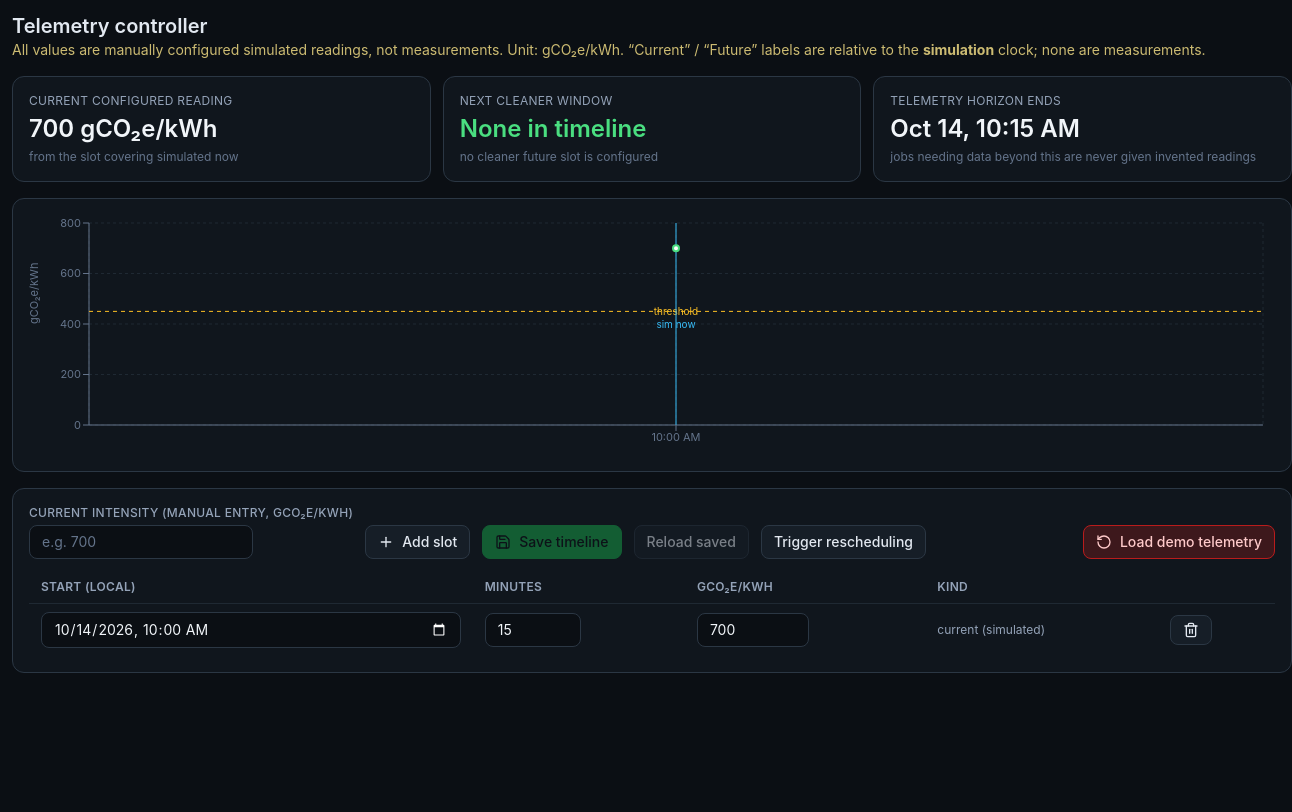
Test case: Telemetry page › shows backend validation details (overlap) when saving fails
Step 1. Clear the field named "Slot 1 intensity" → [753, 630], box [697,613,809,647]
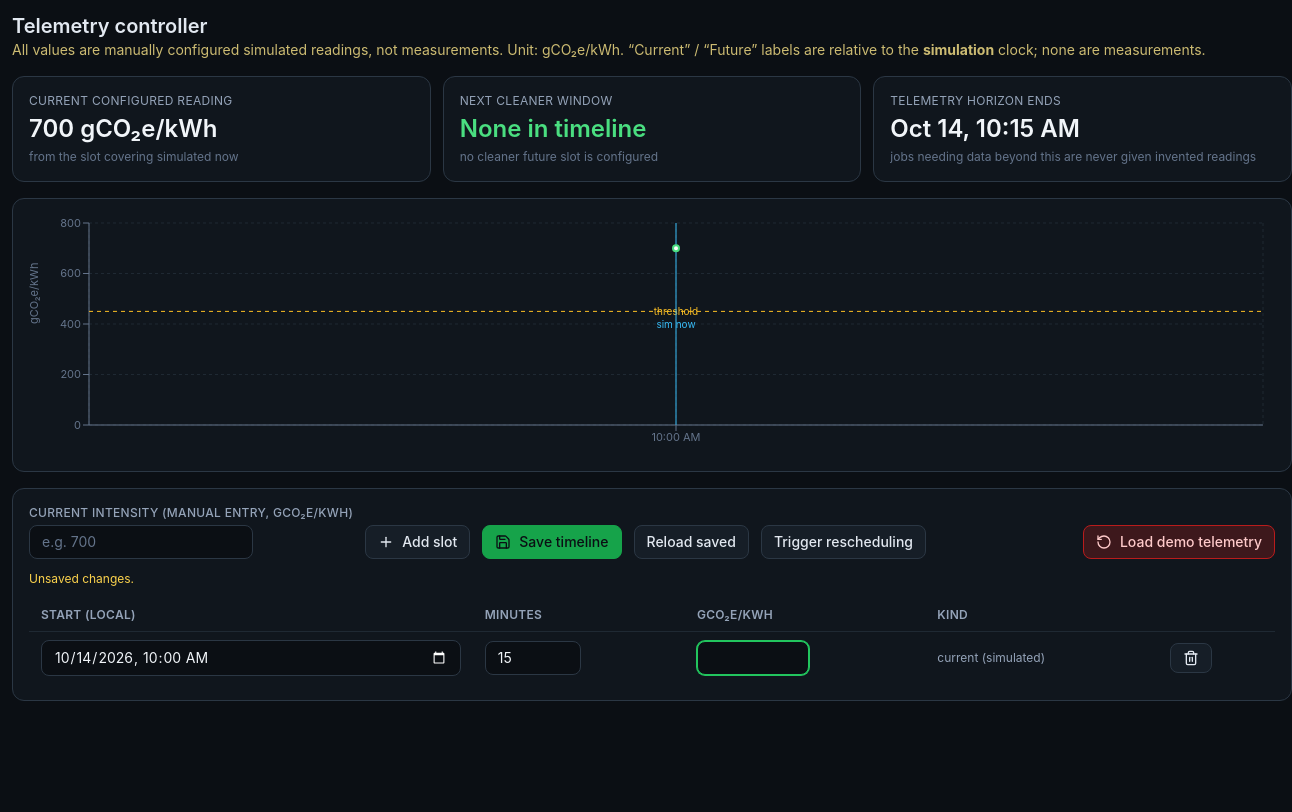
Step 2. Type "300" into the field named "Slot 1 intensity" → [753, 658], box [697,641,809,675]
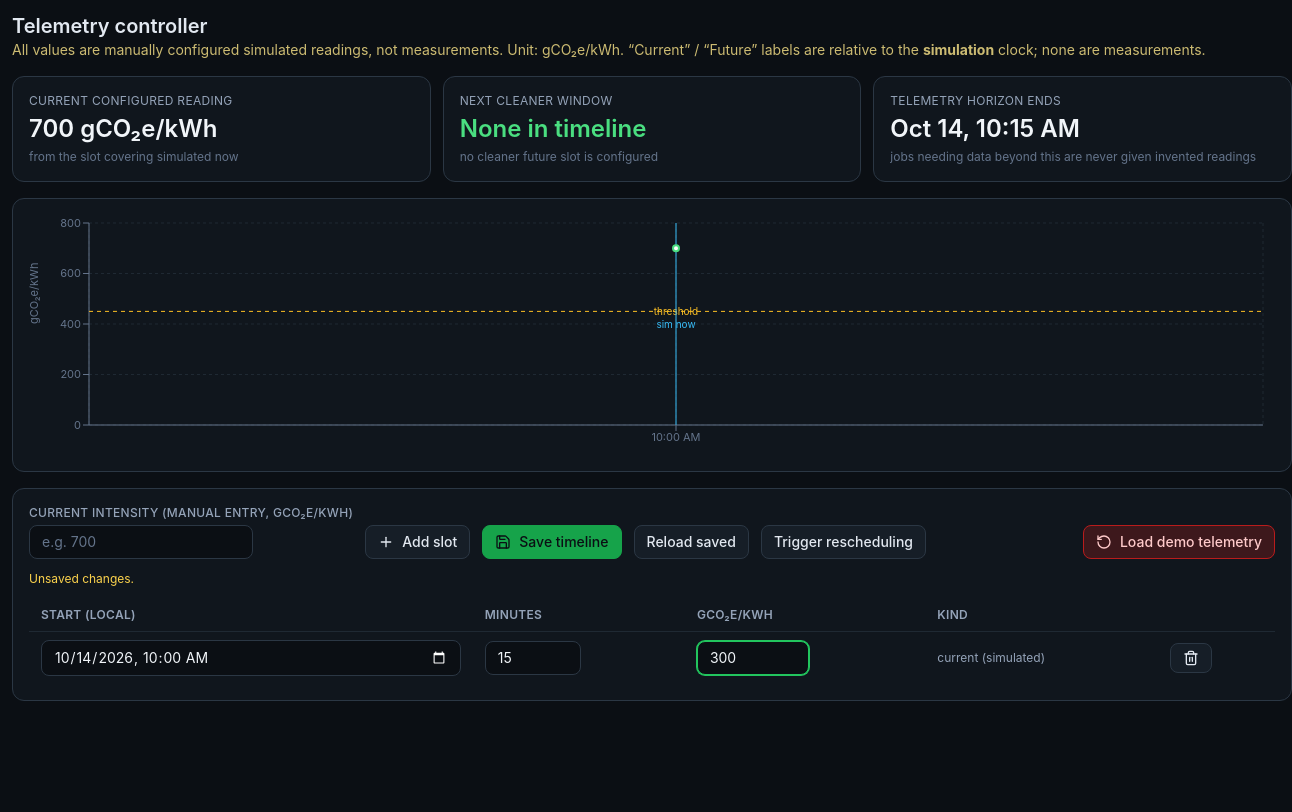
Step 3. Click the button "Save timeline" → [552, 542], box [482,525,622,559]
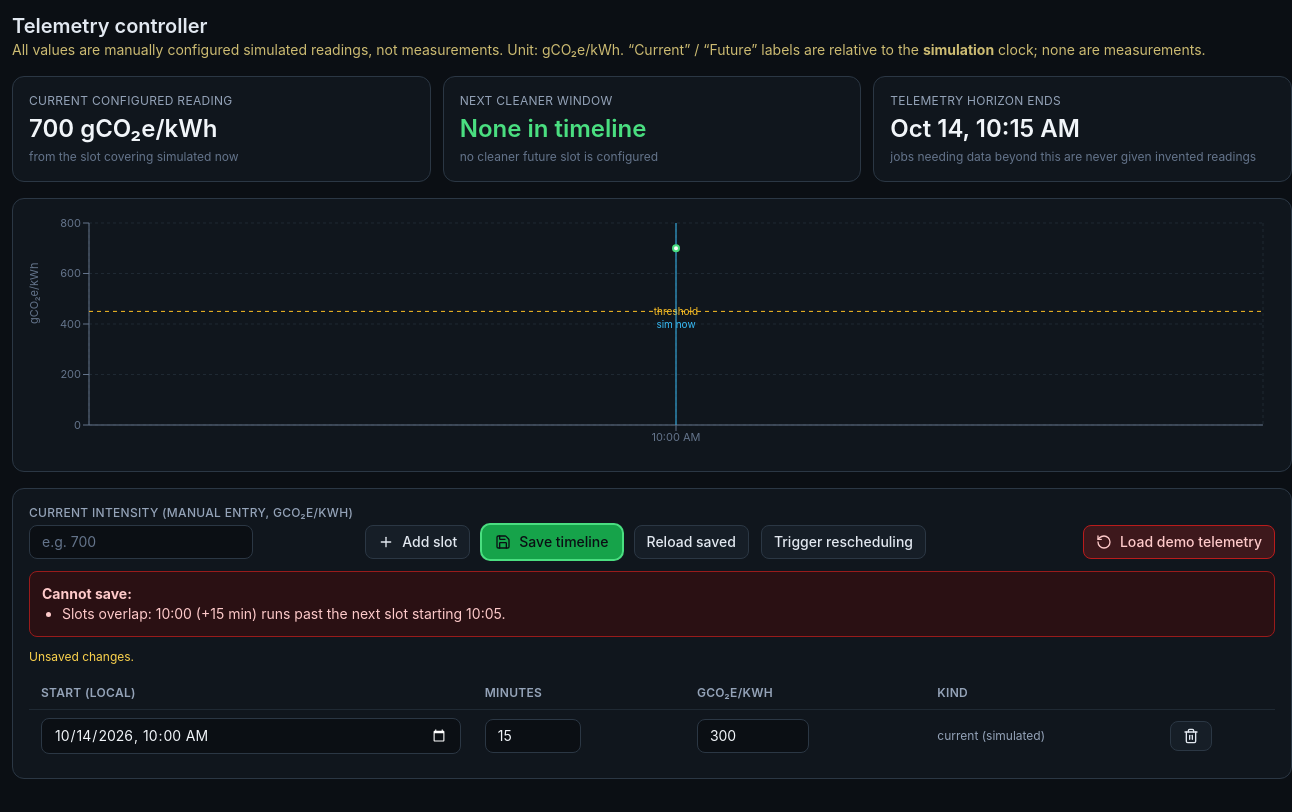
Expected: the list item "Slots overlap" is shown, [62,605,506,622]
